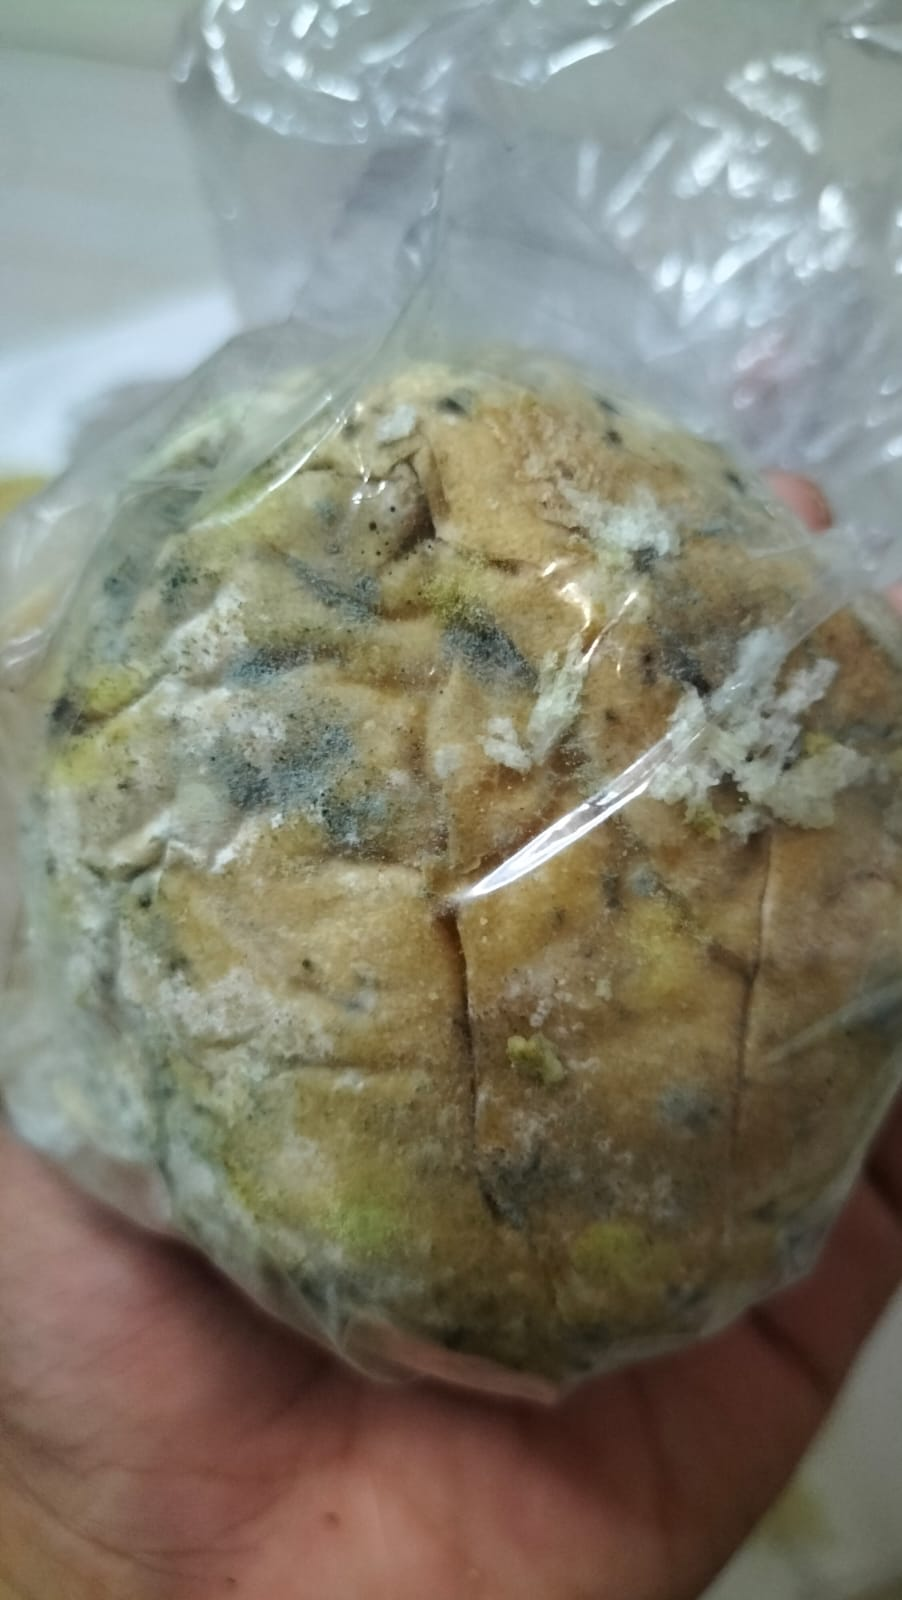mold_bread: (218, 713, 431, 849), (460, 1131, 592, 1248), (283, 498, 399, 620), (422, 575, 536, 687), (632, 620, 770, 708), (656, 1079, 725, 1156), (148, 538, 222, 609), (595, 849, 671, 913), (42, 677, 99, 753), (219, 636, 283, 699), (586, 386, 633, 455), (427, 385, 489, 435), (623, 534, 669, 591)
